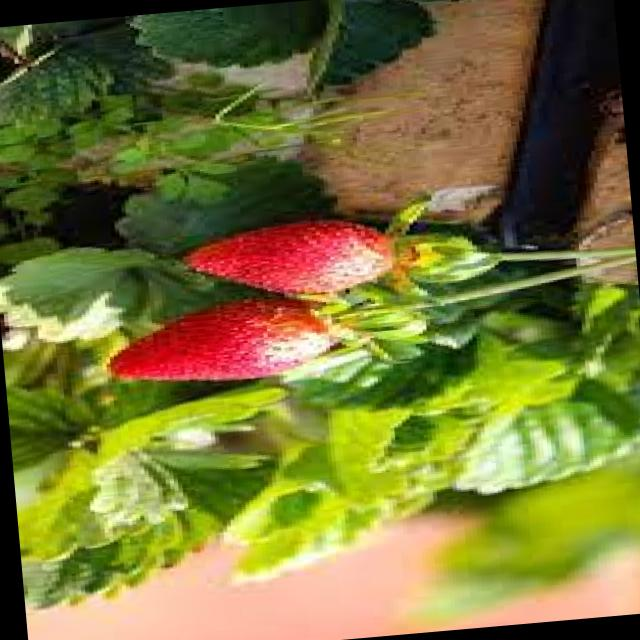strawberry: (170, 202, 430, 305), (103, 290, 344, 394)
